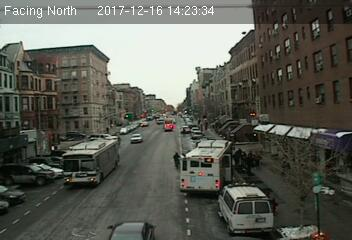bus: (60, 137, 121, 187), (179, 140, 231, 192)
car: (129, 132, 142, 142), (180, 126, 191, 134)
police: (214, 182, 274, 234)
